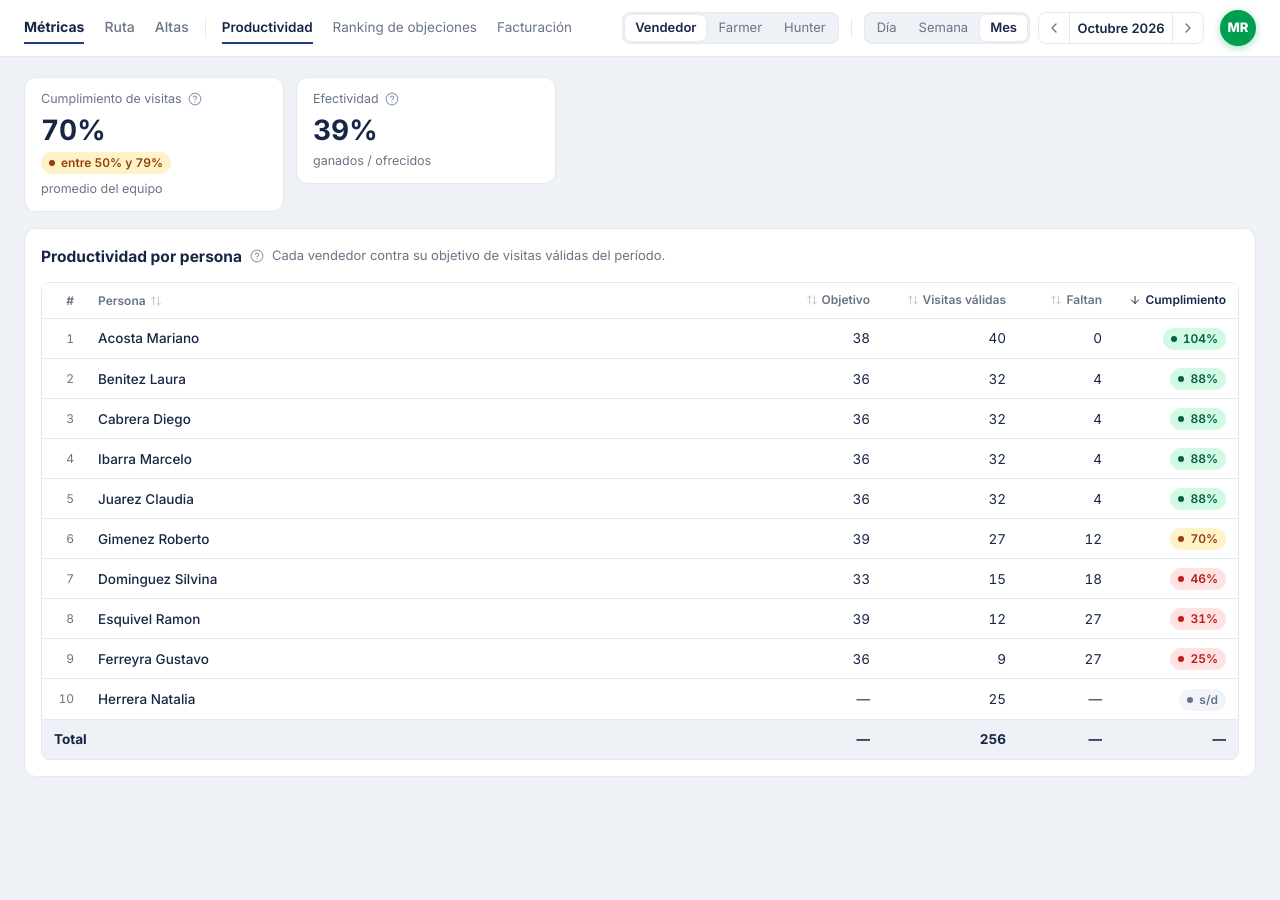
Test: Productividad (vista por defecto) › las columnas son Objetivo, lo logrado, Faltan y Cumplimiento: la meta, lo hecho, lo que falta y el %
Expected: the row with test id "fila-productividad-V1" is shown, [42,319,1238,359]
Expected: the column headings read "#", "Persona", "Objetivo", "Visitas válidas", "Faltan", "Cumplimiento", in this order, [42,283,86,319]; [86,283,786,319]; [786,283,882,319]; [882,283,1018,319]; [1018,283,1114,319]; [1114,283,1238,319]
Click the button "Farmer" at (740, 28), box [708,15,772,41]
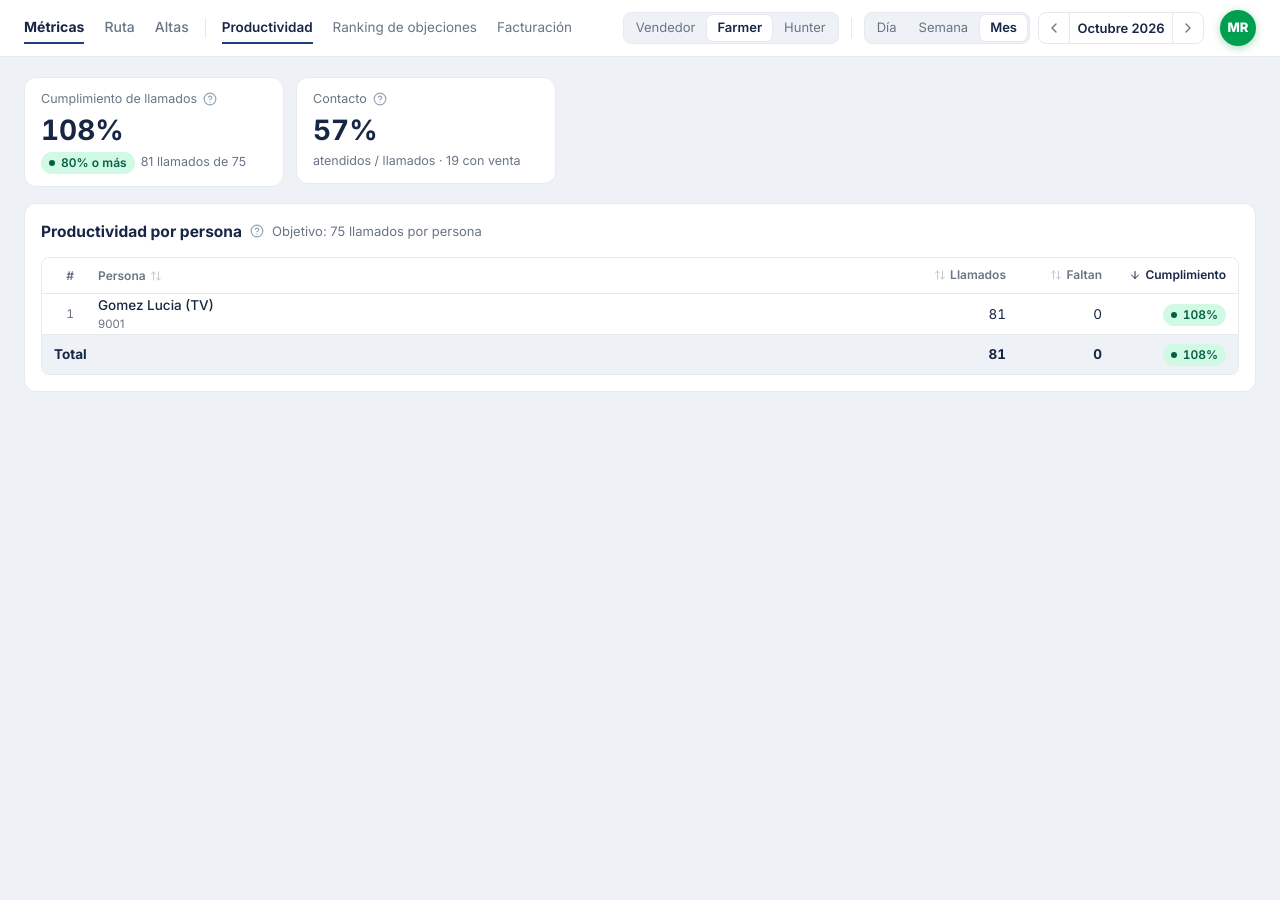
Expected: the text "Objetivo: 75 llamados por persona" is shown, [272,222,482,241]
